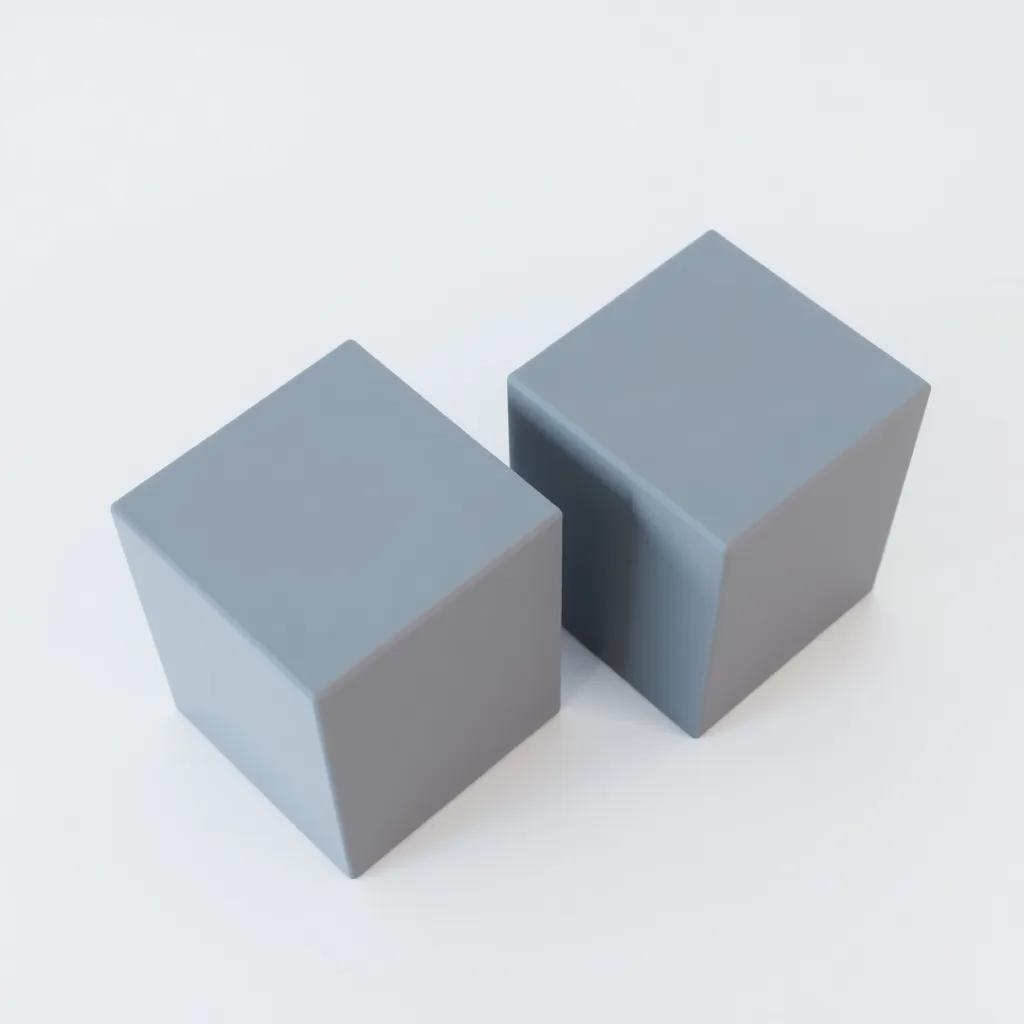cube: (109, 336, 564, 879), (505, 226, 931, 738)
